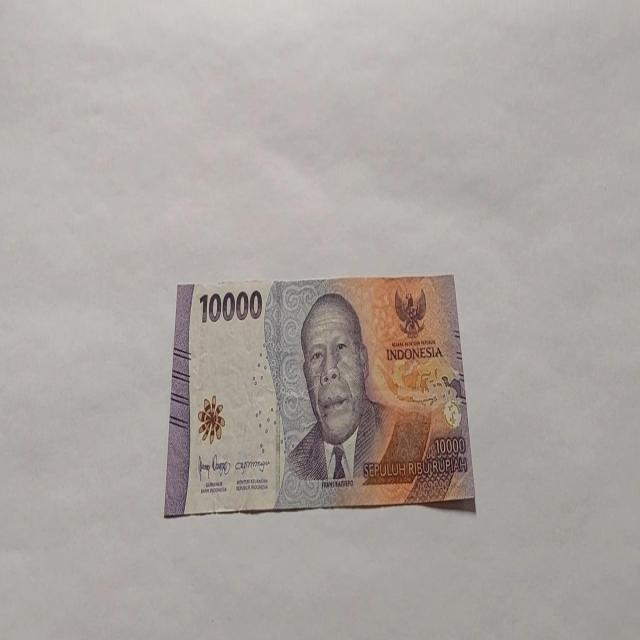Kertas: (164, 273, 476, 518), (198, 287, 263, 325)
